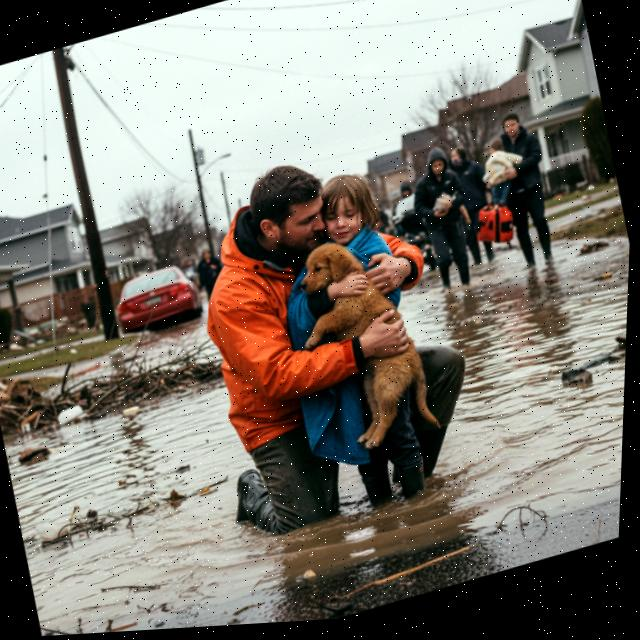civilian: (155, 123, 500, 563), (259, 146, 440, 446), (473, 95, 575, 287), (401, 131, 491, 300), (438, 124, 510, 268), (384, 164, 441, 275), (469, 125, 532, 220), (187, 232, 233, 314)
dog: (281, 220, 460, 475)
